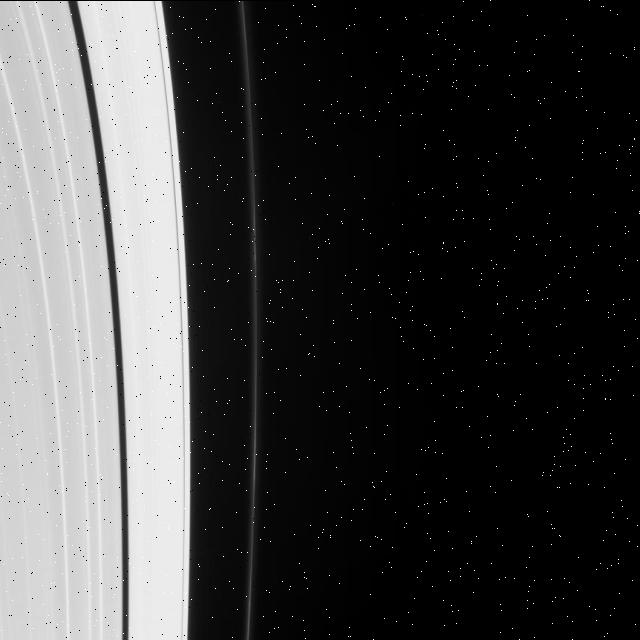Saturn: (0, 0, 265, 640)
